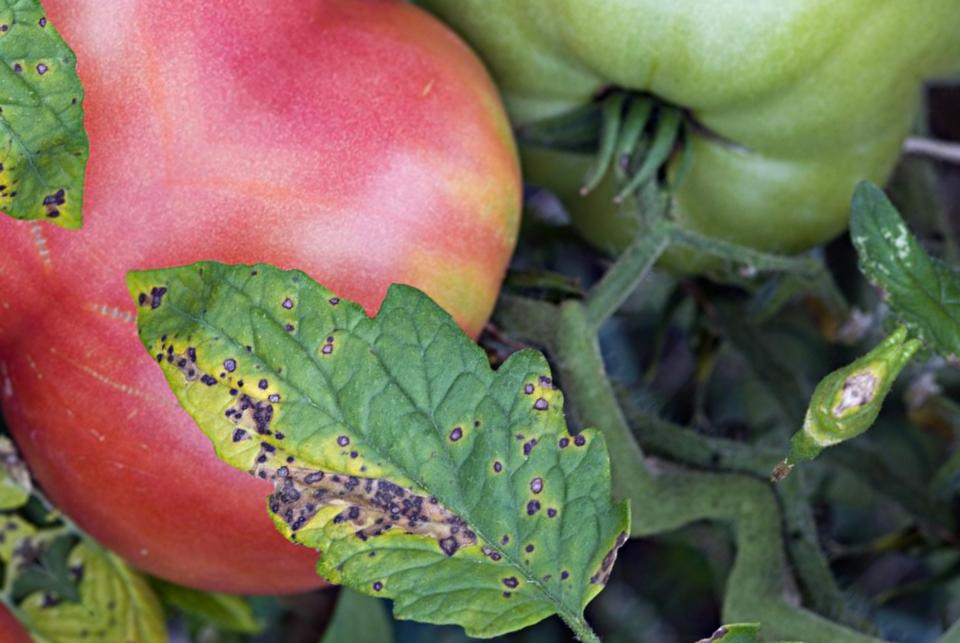Tomato Septoria leaf spot: (67, 132, 678, 643), (282, 561, 580, 643)
